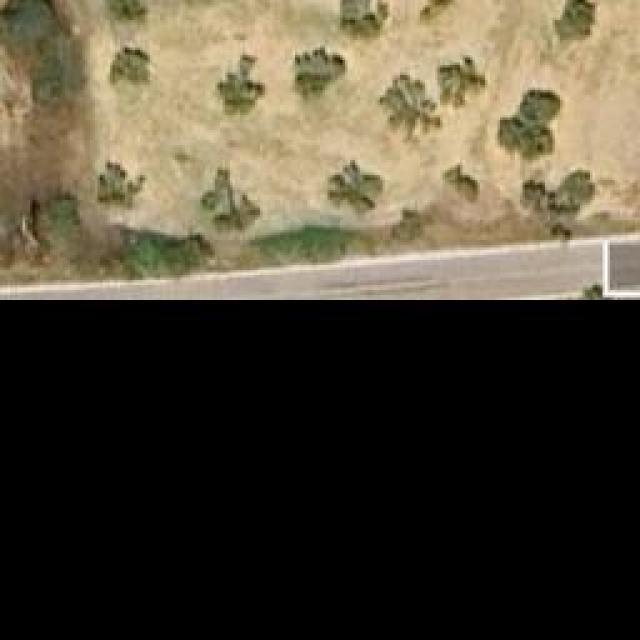Tree: (0, 0, 85, 118), (378, 73, 443, 146), (498, 90, 563, 158), (523, 167, 598, 225), (123, 230, 206, 275), (215, 52, 265, 120), (328, 160, 383, 218), (203, 168, 256, 228), (35, 195, 85, 254), (295, 45, 345, 103), (438, 52, 488, 110), (98, 158, 143, 211), (552, 0, 597, 42), (110, 47, 150, 85), (447, 165, 485, 203), (417, 0, 455, 25), (107, 0, 147, 22)
